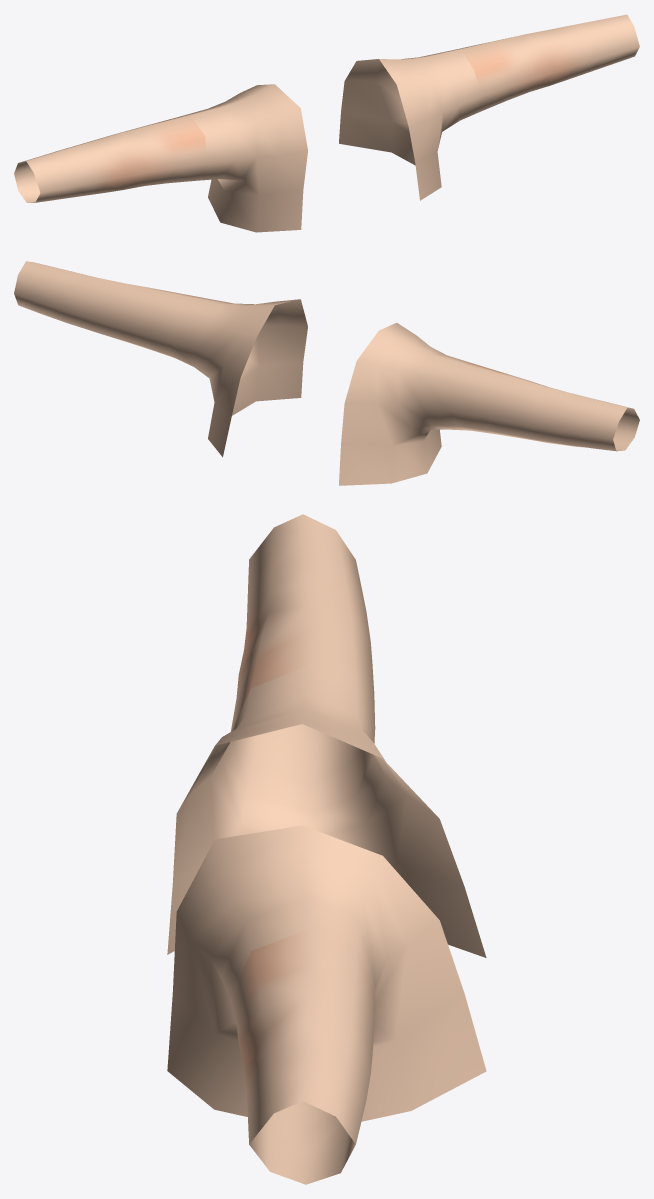
Rendered from Body_ArmB_2.fbx.
3 renders of one model, top to bottom at view 1: azimuth 30°, elevation 25°; view 2: azimuth 150°, elevation 25°; view 3: azimuth 270°, elevation 25°, orthographic. The views are drawn at different scales.
Parts seen in each view (by area): view 1: Body_ArmB_2; view 2: Body_ArmB_2; view 3: Body_ArmB_2.
Part boxes in pixels (left/top/right/bottom): Body_ArmB_2: left=14, top=14, right=639, bottom=232; Body_ArmB_2: left=14, top=261, right=639, bottom=485; Body_ArmB_2: left=167, top=514, right=486, bottom=1184.
Bounding box in the file's own units: 95.86 × 19.51 × 22.04.
